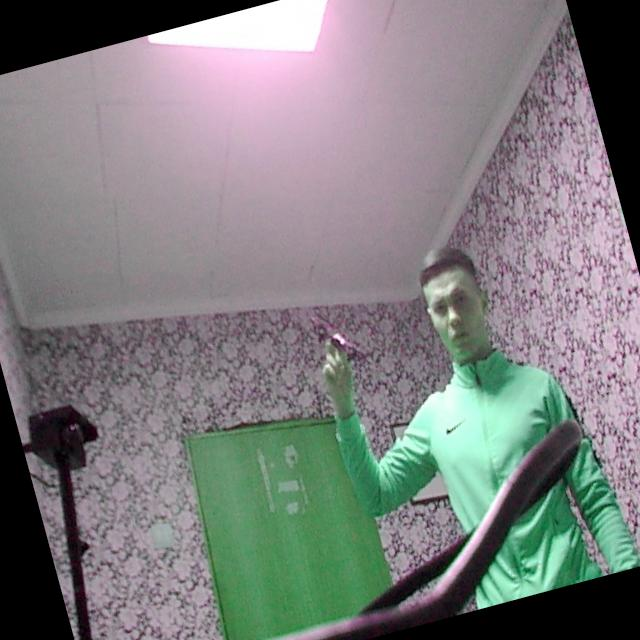drone: (302, 301, 384, 383)
